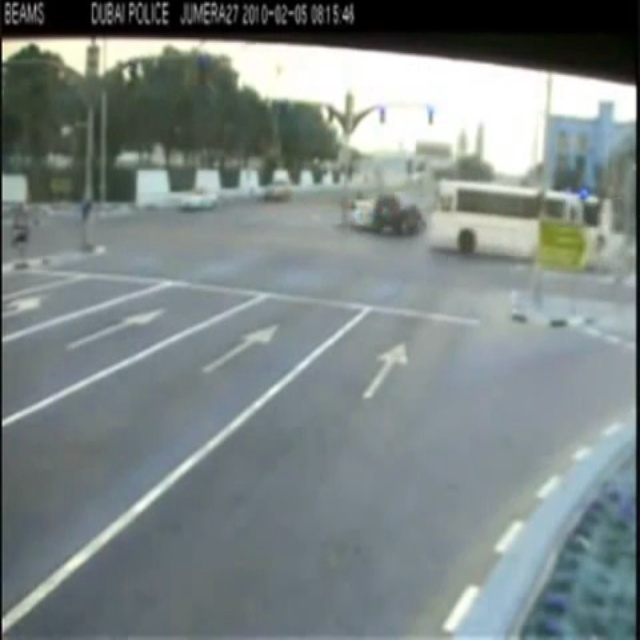acc: (345, 179, 421, 244)
